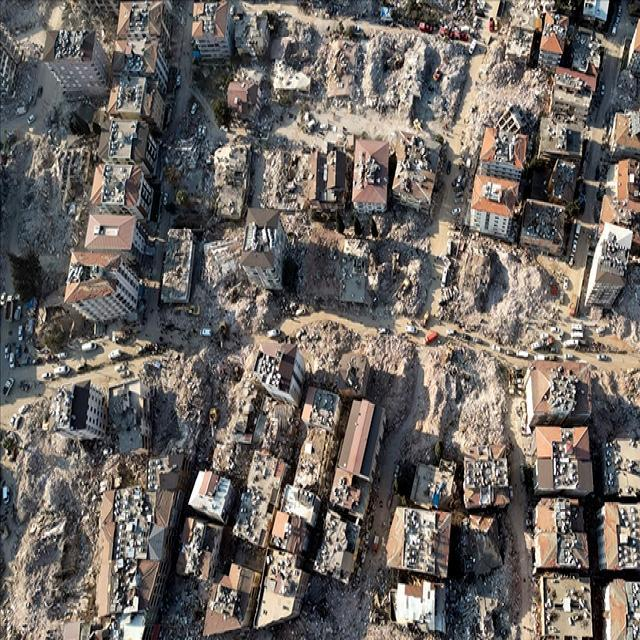Rubble: (19, 138, 90, 240), (456, 522, 518, 636), (11, 519, 76, 624), (504, 248, 564, 334), (366, 22, 424, 110), (22, 448, 98, 514), (479, 58, 541, 133), (418, 338, 458, 442), (160, 354, 208, 439), (212, 134, 256, 222), (270, 26, 315, 108), (461, 354, 501, 444), (201, 232, 241, 319), (172, 112, 208, 208), (388, 236, 431, 314), (462, 235, 500, 322), (296, 232, 338, 306), (370, 331, 410, 407), (319, 24, 357, 102), (266, 138, 309, 206), (308, 583, 358, 638), (430, 24, 460, 110), (306, 320, 345, 382)
